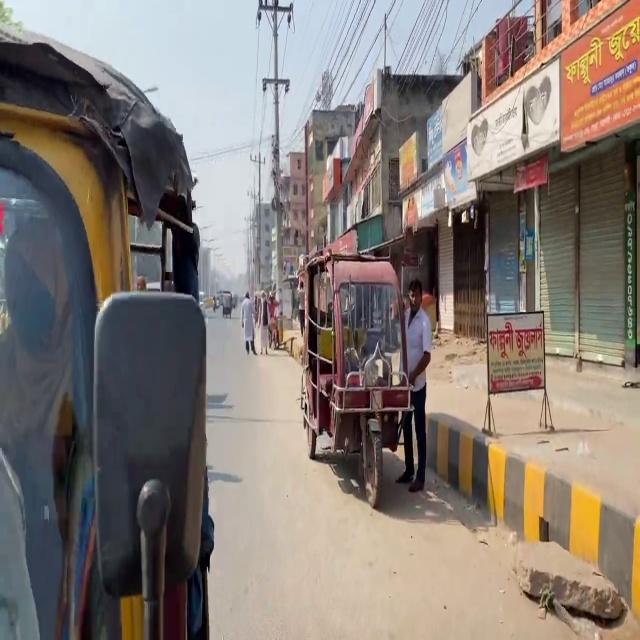Construction-barrier: (425, 410, 639, 619), (425, 411, 496, 528)
Garbage: (486, 310, 545, 394)
Garbage-bin: (392, 278, 433, 491)
Traffic-cone: (0, 26, 213, 638), (299, 248, 414, 507)
